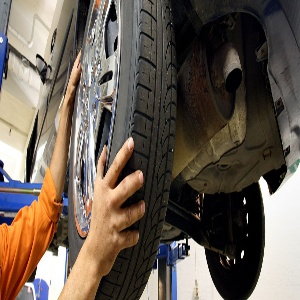tire: (63, 1, 175, 300)
